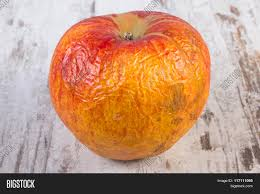damaged_apple: (49, 10, 211, 159)
